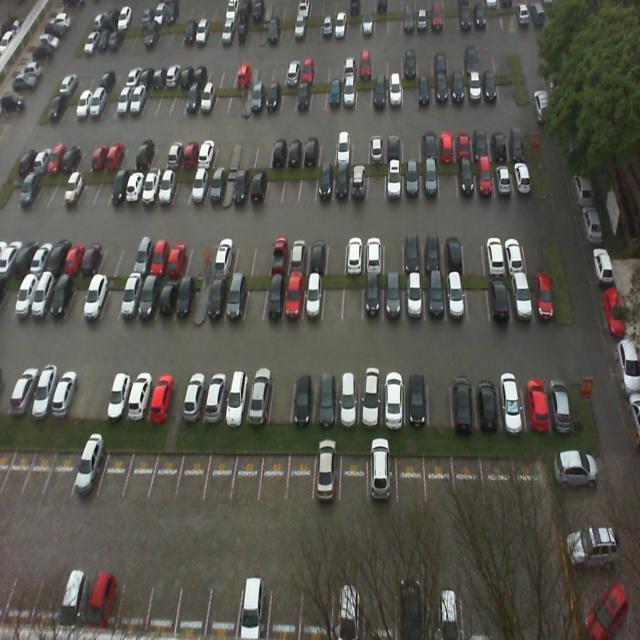space-empty: (94, 445, 132, 502), (123, 442, 158, 502), (148, 444, 182, 500), (43, 445, 78, 499), (231, 451, 264, 504), (204, 448, 238, 498), (175, 445, 208, 496), (21, 446, 55, 494), (259, 448, 290, 500), (64, 367, 93, 420), (83, 371, 112, 421), (288, 449, 314, 504), (428, 375, 454, 428), (268, 373, 294, 424), (101, 270, 125, 320), (241, 275, 265, 325), (113, 238, 140, 276), (525, 229, 548, 272), (467, 275, 488, 322), (322, 277, 343, 322), (188, 239, 212, 278), (172, 165, 193, 208), (382, 231, 404, 272), (229, 238, 252, 277), (464, 228, 484, 272), (251, 235, 272, 272), (345, 275, 362, 320), (324, 235, 344, 273), (299, 166, 317, 205), (267, 166, 284, 207), (283, 164, 300, 205), (368, 162, 386, 200), (440, 162, 458, 195)
space-occupied: (71, 446, 106, 501), (545, 370, 576, 426), (499, 373, 528, 432), (312, 451, 342, 507), (223, 370, 254, 424), (523, 371, 550, 428), (476, 372, 502, 429), (117, 271, 146, 322), (222, 272, 249, 326), (106, 371, 134, 422), (452, 374, 479, 426), (136, 267, 162, 320), (127, 370, 154, 420), (312, 372, 336, 428), (154, 274, 180, 324), (203, 370, 229, 420), (246, 372, 272, 422), (262, 270, 286, 324), (530, 270, 557, 318), (148, 374, 175, 422), (359, 371, 382, 426), (174, 272, 198, 324), (382, 371, 405, 424), (335, 373, 359, 423), (290, 372, 313, 424), (405, 374, 428, 426), (486, 273, 511, 320), (483, 227, 507, 275), (181, 373, 206, 418), (443, 226, 466, 273), (205, 273, 225, 327), (130, 236, 156, 276), (509, 276, 532, 320), (303, 276, 324, 324), (155, 165, 178, 208), (444, 277, 467, 320), (148, 237, 172, 278), (188, 164, 211, 206), (363, 276, 384, 322), (282, 276, 302, 324), (167, 238, 192, 276), (505, 227, 526, 272), (425, 229, 445, 276), (139, 165, 162, 205), (511, 156, 534, 196), (287, 234, 310, 274), (404, 226, 424, 272), (404, 274, 424, 320), (426, 276, 446, 322), (204, 166, 226, 206), (231, 164, 252, 205), (213, 239, 236, 276), (384, 276, 402, 322), (307, 234, 328, 273), (345, 231, 364, 274), (268, 236, 290, 272), (364, 235, 383, 273), (458, 162, 478, 198), (478, 158, 496, 198), (494, 160, 514, 195), (250, 166, 268, 204), (422, 163, 440, 198), (333, 165, 350, 202), (388, 162, 404, 200), (403, 163, 420, 198), (316, 166, 332, 200), (351, 164, 367, 198)
